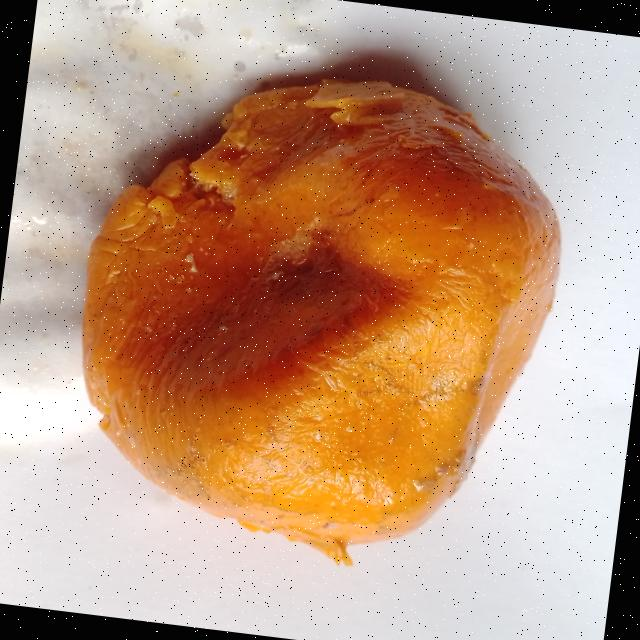Rotten: (51, 45, 580, 592)
